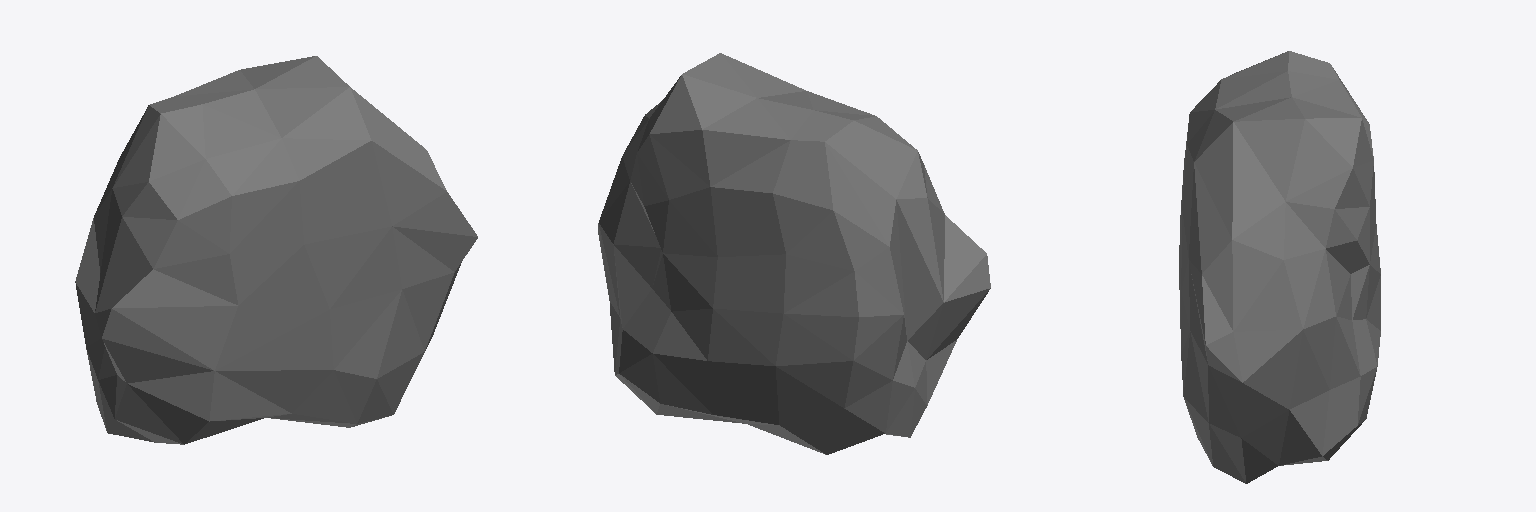
The model's file is Rock.obj.
3 renders of one model, left to right at view 1: azimuth 30°, elevation 25°; view 2: azimuth 150°, elevation 25°; view 3: azimuth 270°, elevation 25°, orthographic.
Parts seen in each view (by area): view 1: Rock; view 2: Rock; view 3: Rock.
Boxes of the visible parts, x1,y1,x2,y2 form: Rock: [75, 56, 477, 444]; Rock: [598, 53, 990, 454]; Rock: [1179, 51, 1380, 483].
Bounding box in the file's own units: 1.29 × 1.13 × 0.5992.